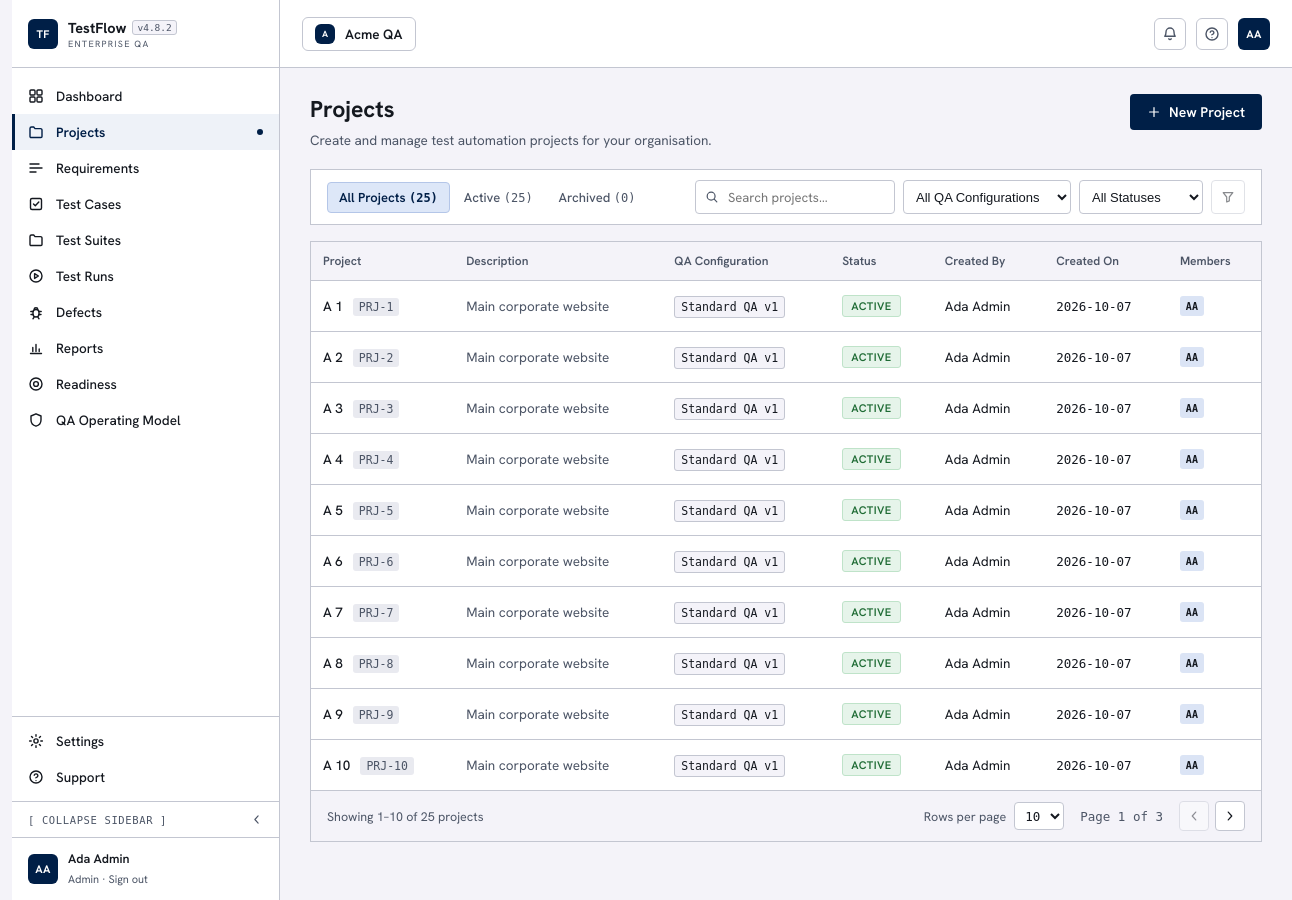
Projects page › Projects — List: pagination › changing rows per page restarts at page 1 with the new page size
The image size is (1292, 900).
Expected: the text "A 1" is shown, [323,297,343,315]
Click the button named "Next page" at (1230, 816), box [1215,801,1245,831]
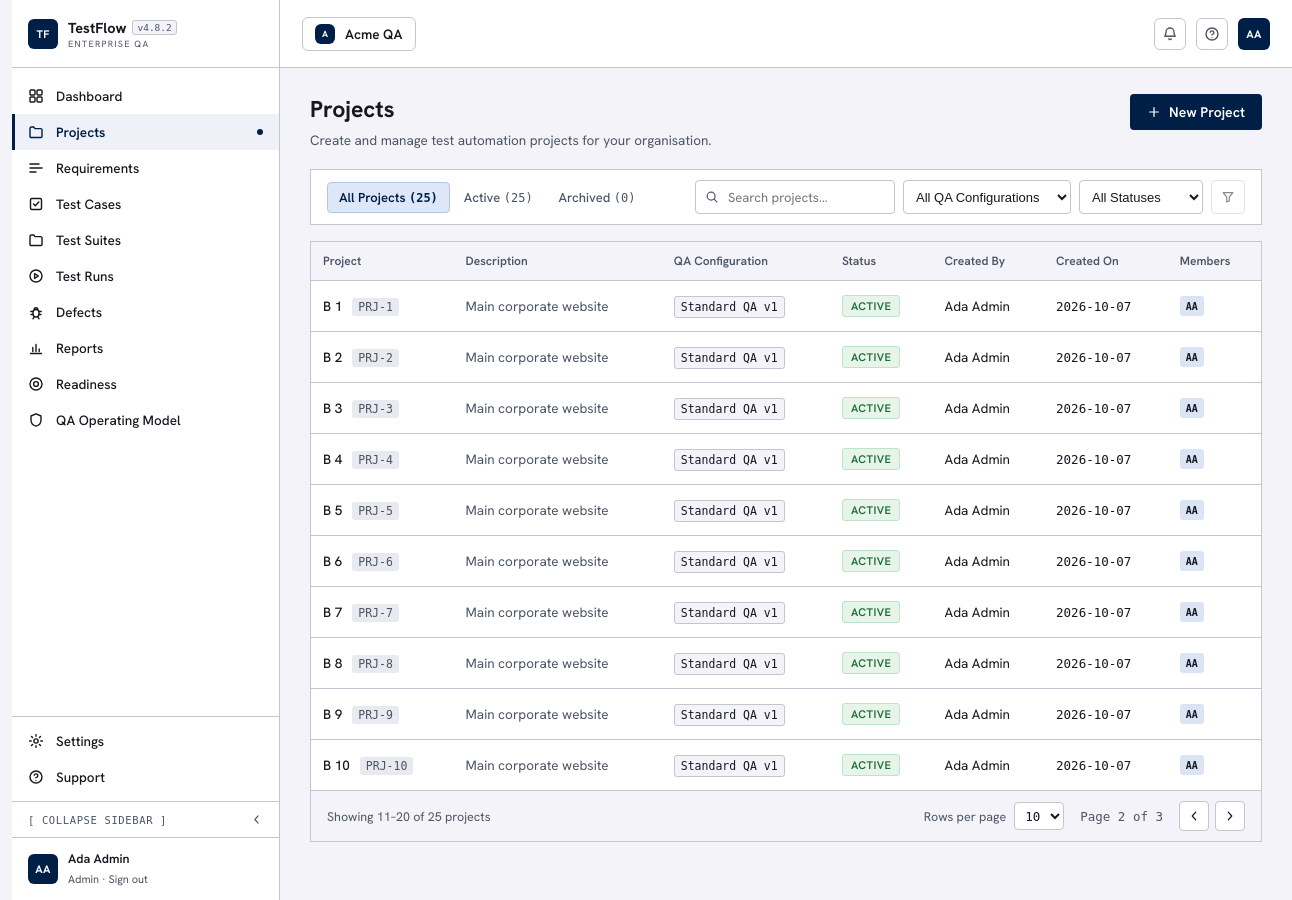
Result: the text "B 1" is shown at [323,297,342,315]
Select "25" in the dropdown labelled "Rows per page" at (1039, 816), box [1014,802,1064,830]
(page scrolled)
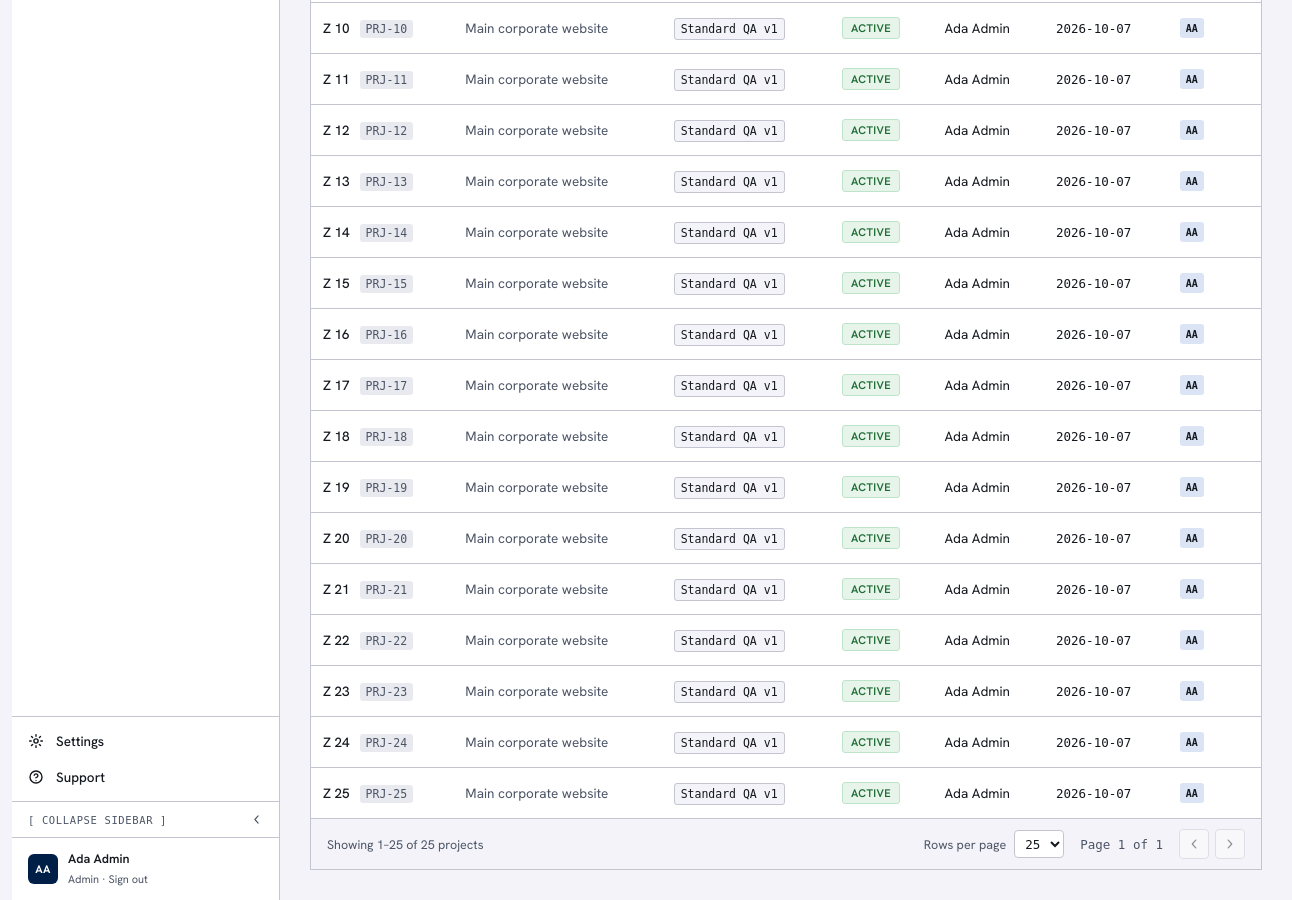
Result: the text "Showing 1–25 of 25 projects" is shown at [327,836,484,852]
Result: the text "Page 1 of 1" is shown at [1080,836,1163,852]
